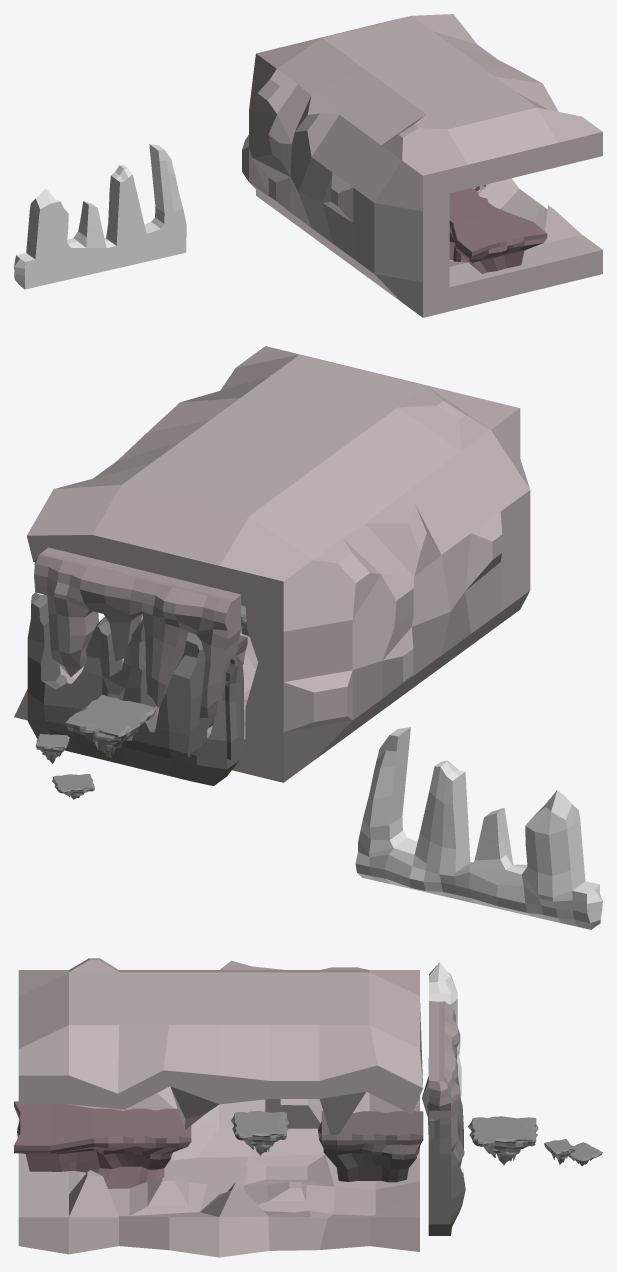
The model's file is Level1.fbx.
The picture shows the model from 3 angles, top to bottom: view 1: azimuth 30°, elevation 25°; view 2: azimuth 150°, elevation 25°; view 3: azimuth 270°, elevation 25°; orthographic projection. The views are drawn at different scales.
Visible parts, largest first — view 1: Cave, Cube.001, Platform1; view 2: Cave, Cube.001, Cube.002, Cube, Floating P.001, Floating P.003; view 3: Cave, Platform1, Platform2, Cube.002, Cube, Floating P.001, Floating P, Cube.001, Floating P.002, Floating P.003.
Part boxes in pixels (x1,y1,x2,y2): Cave: (242,14,602,317); Cube.001: (14,144,186,289); Platform1: (449,188,547,273); Cave: (14,346,530,782); Cube.001: (355,727,602,929); Cube.002: (27,592,243,785); Cube: (34,547,240,729); Floating P.001: (65,694,155,758); Floating P.003: (52,774,94,799); Cave: (18,958,422,1257); Platform1: (14,1101,191,1188); Platform2: (318,1111,423,1182); Cube.002: (422,1058,465,1235); Cube: (429,1001,460,1151); Floating P.001: (468,1116,538,1165); Floating P: (231,1111,288,1155); Cube.001: (429,962,461,1096); Floating P.002: (544,1139,575,1165); Floating P.003: (568,1142,602,1165).
Size of the model in its own units: 5436 by 2474 by 5332.
